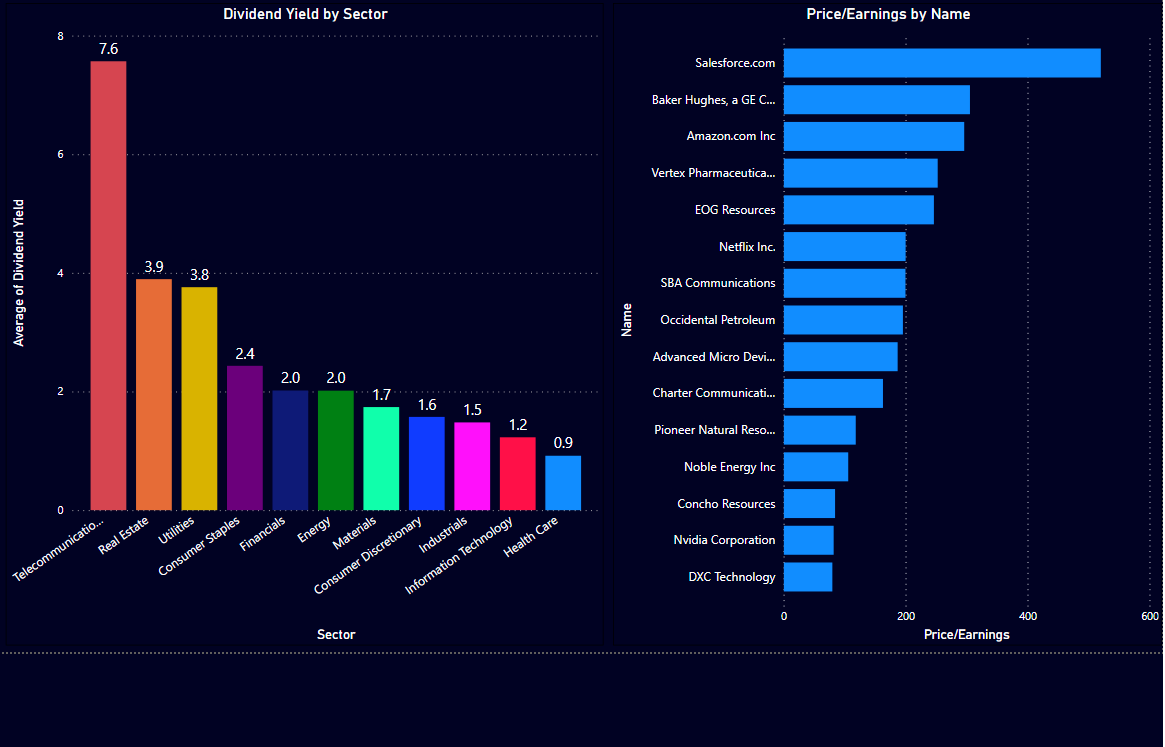

What the dashboard file says about the page in this screenshot:
{"tool":"powerbi","page":{"name":"Page 1","canvas":[1280,720],"ordinal":0},"visuals":[{"type":"columnChart","title":"Dividend Yield by Sector","fields":{"Category":["financials.Sector"],"Y":["Avg(financials.Dividend Yield)"]},"box":[9.6,6.9,656.5,705.9],"z":0},{"type":"barChart","fields":{"Category":["financials.Name"],"Y":["Sum(financials.Price/Earnings)"]},"box":[677.1,6.9,602.9,705.9],"z":1000}]}

Visuals, with their boxes on the page's 1280x720 design canvas (x1, y1, x2, y2). These are canvas units, not pixel positions in the 1165x747 screenshot, which may show the page scaled, cropped or inside an application window:
"Dividend Yield by Sector" columnChart: BBox(10, 7, 666, 713)
barChart - financials.Name x Sum(financials.Price/Earnings): BBox(677, 7, 1280, 713)
